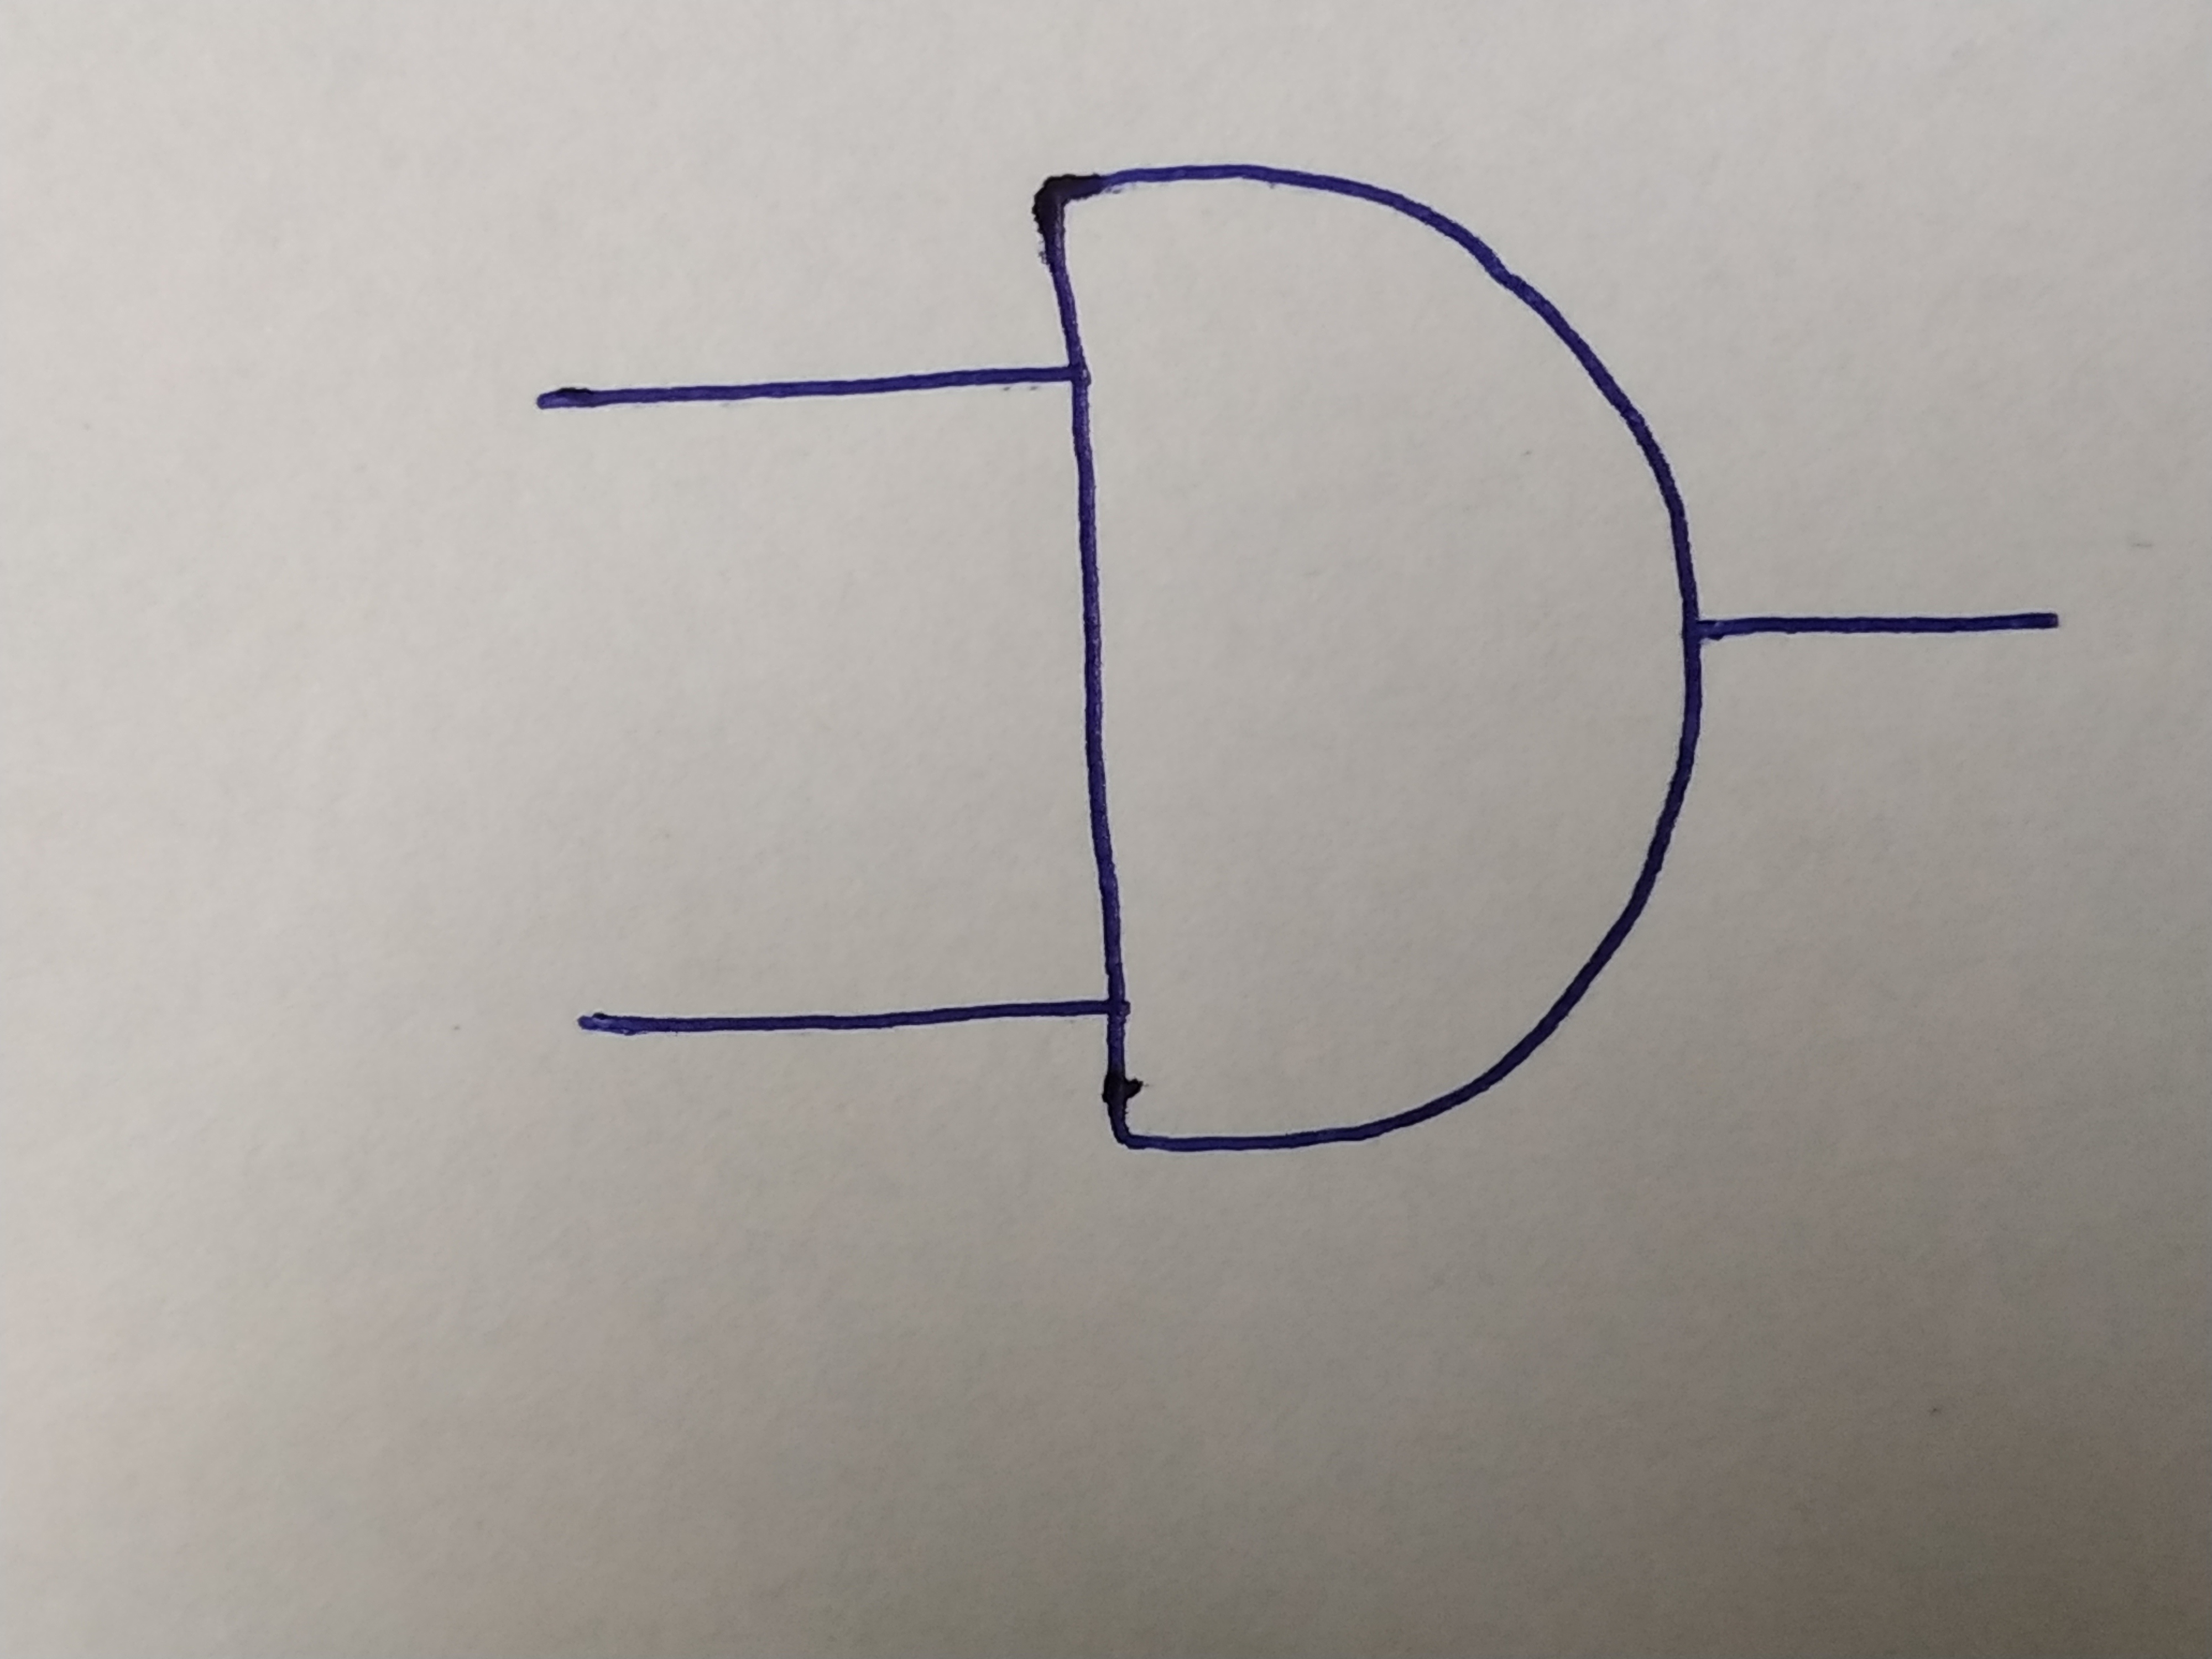and: (1035, 162, 1693, 1152)
